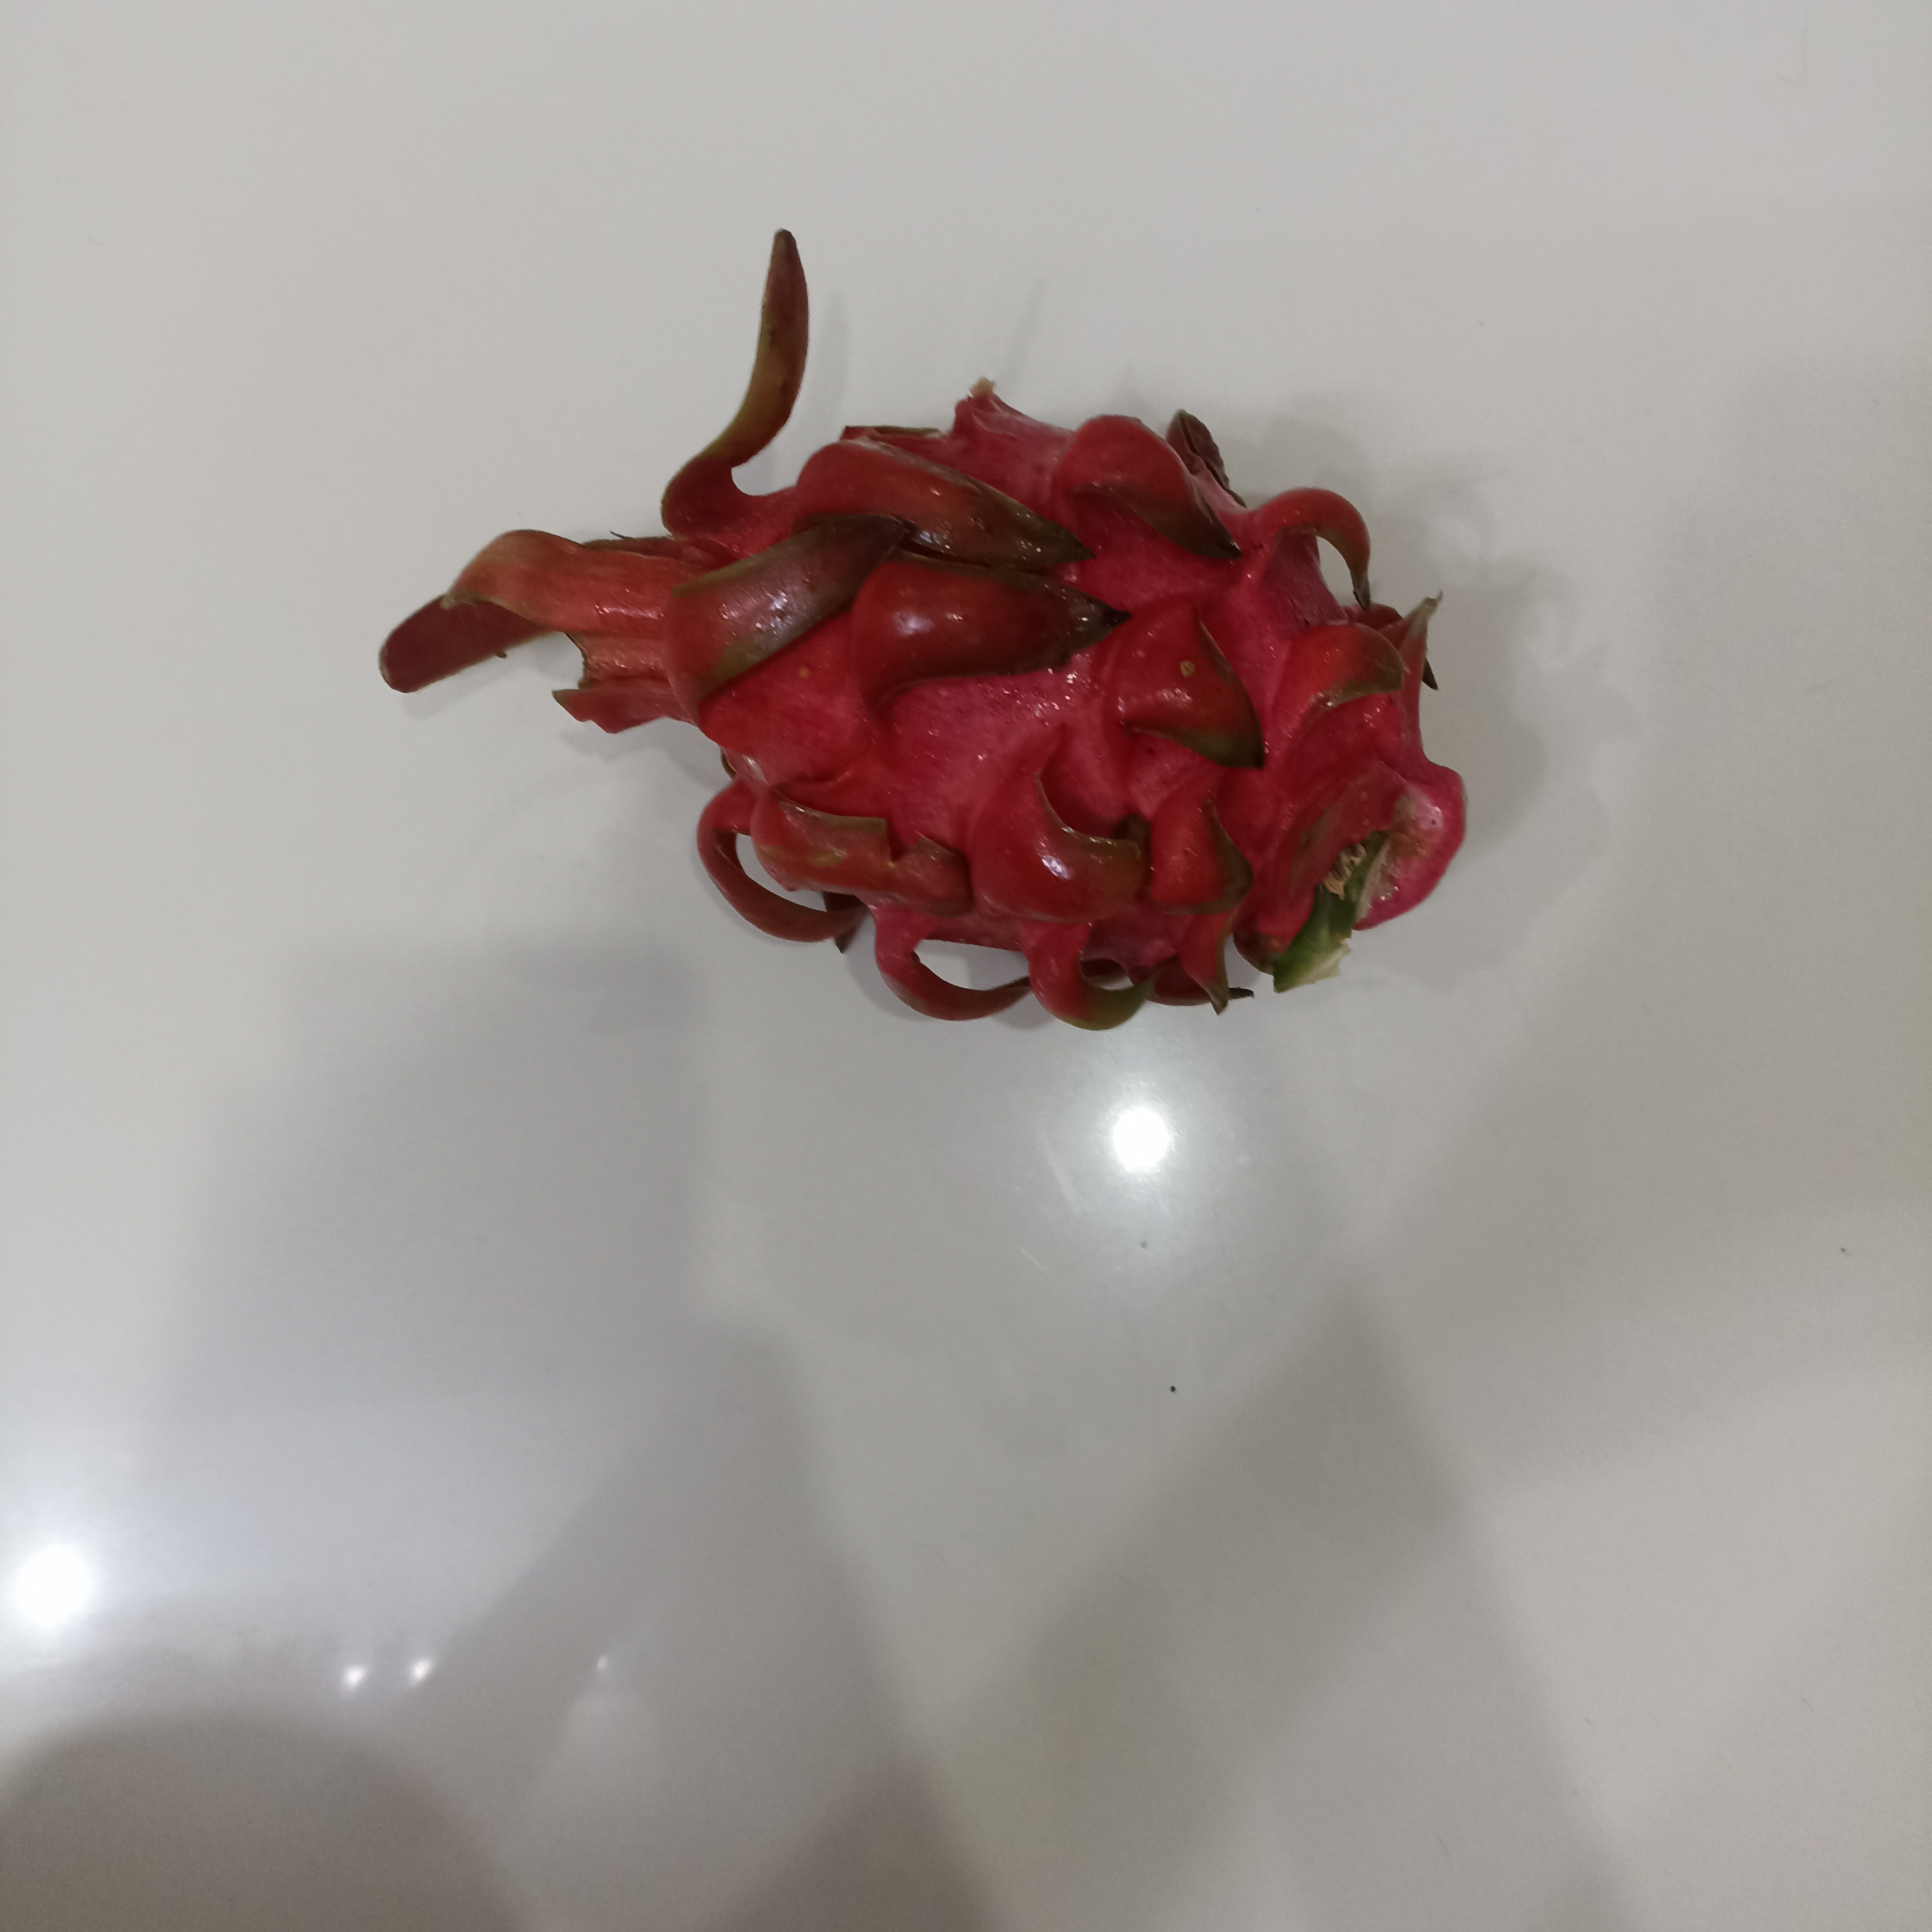Thanh long: (639, 410, 1472, 997)
